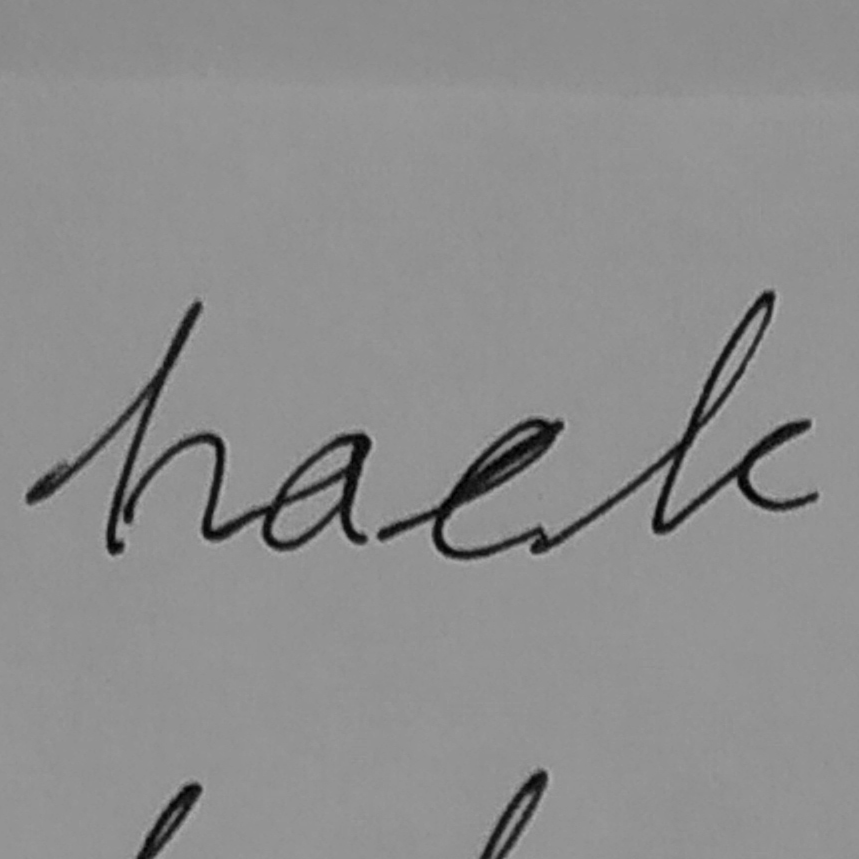a: (253, 426, 385, 560)
c: (426, 412, 573, 564)
h: (98, 296, 237, 560)
k: (643, 279, 824, 542)
